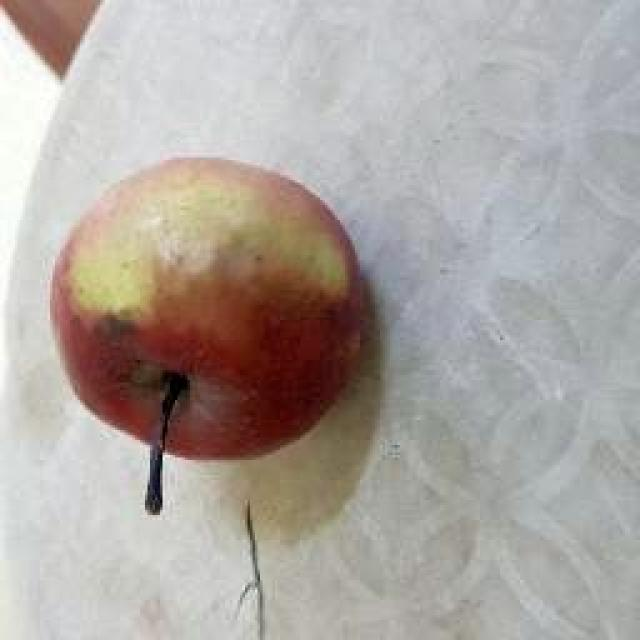Good_Apple: (45, 155, 375, 518)
